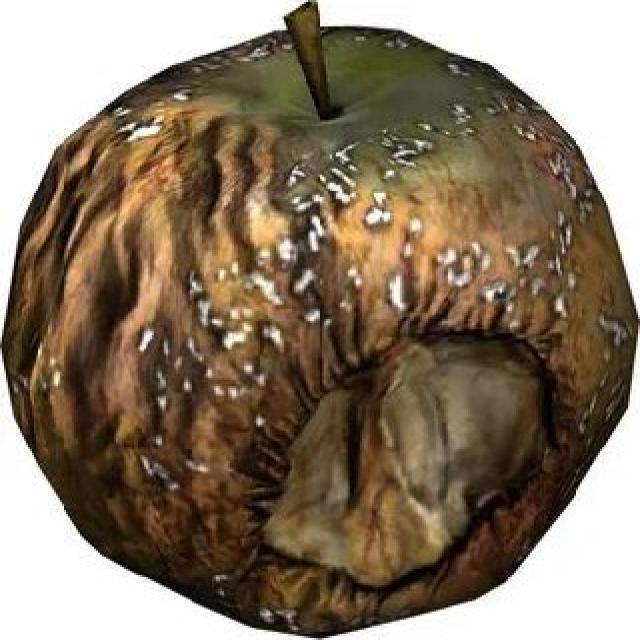Rotten Apple: (4, 28, 630, 640)
